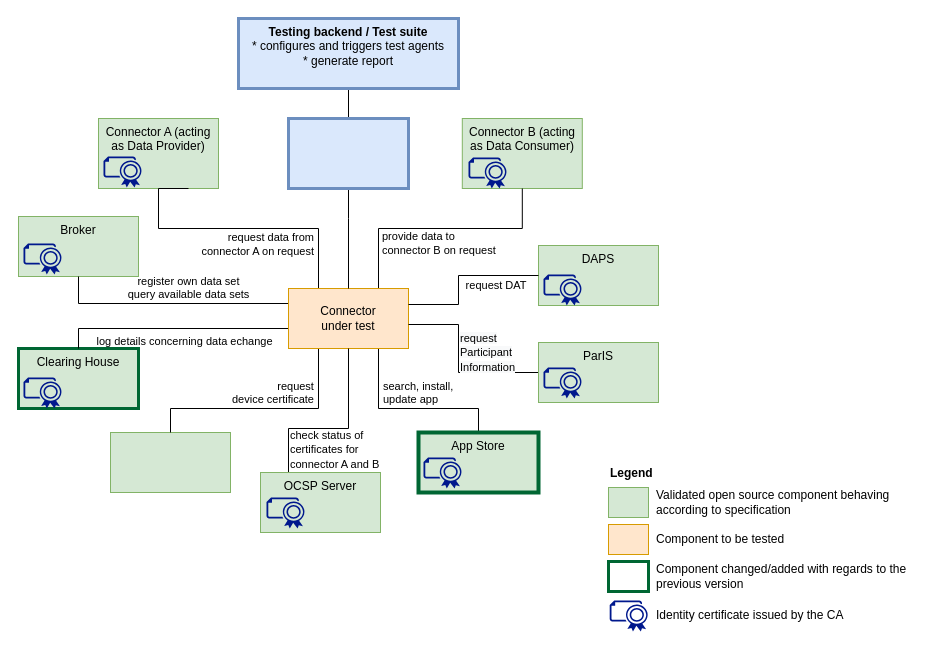
Image size: 932x649. Some labels were removed from this diagram. The shapes that lost their labels are listed below. From the top down, each one's centre as x and y in pixels, then its label:
the point at 348,153: Testing Agent for connector endpoints (user login, ...)
the point at 170,462: CA
